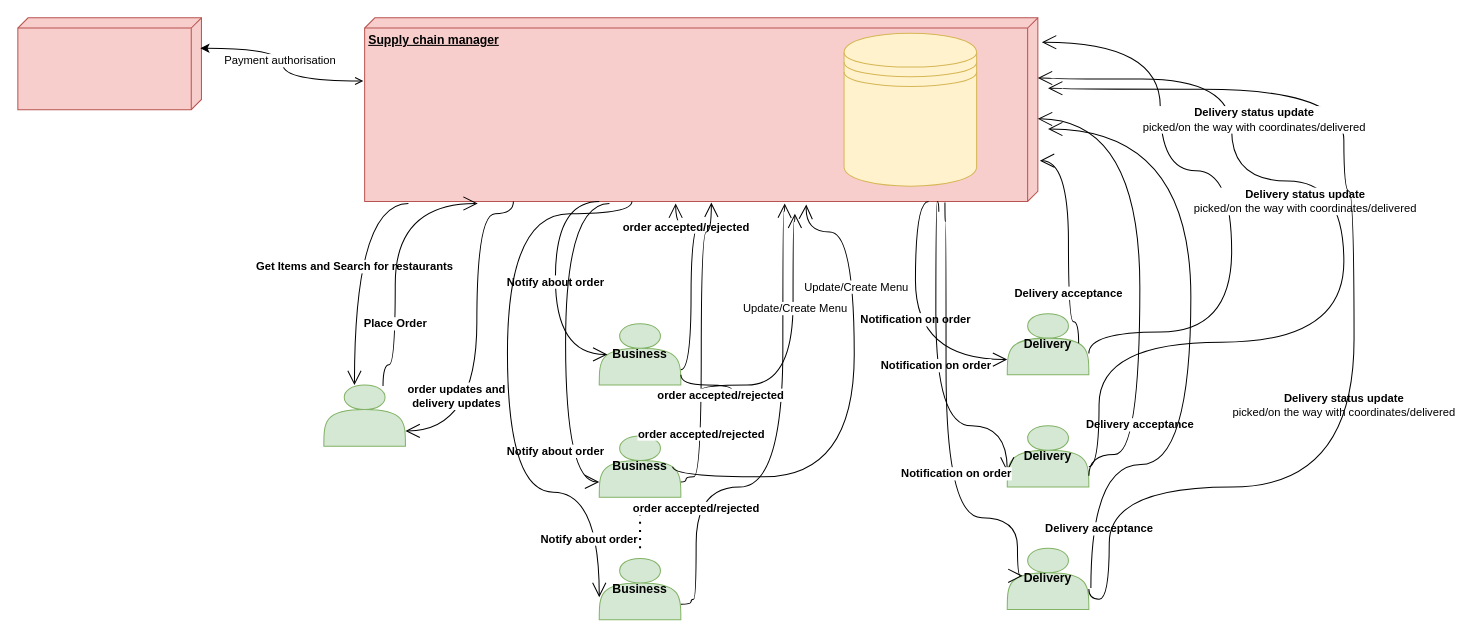
This 1473x638 diagram has some shape labels left out. The centre of each missing label's shape, as x and y in pixels:
"Customer" goes at pixel 364 415.
"Order DB" goes at pixel 910 109.
"Payment Gateway" goes at pixel 109 63.
